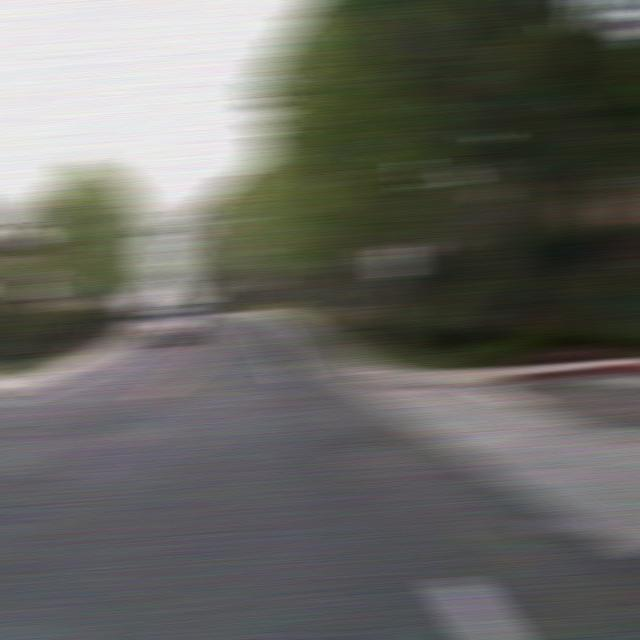speedLimit35: (376, 243, 414, 278)
